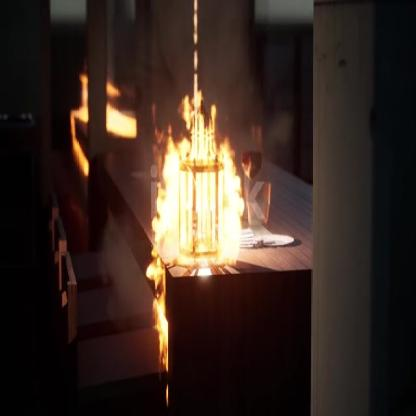fire: (148, 87, 252, 273)
smoke: (136, 0, 267, 194)
